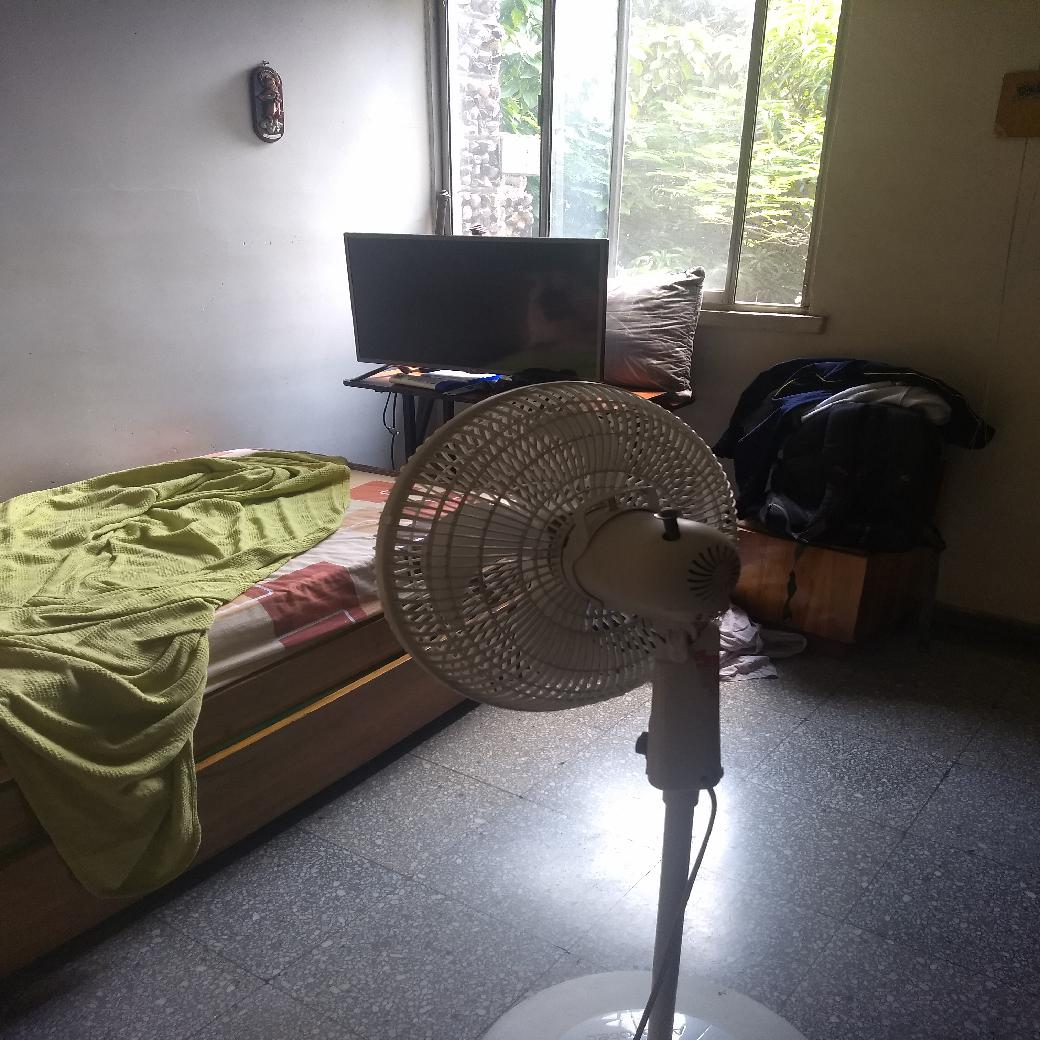tv: (342, 231, 604, 378)
ventilador: (375, 392, 745, 737)
